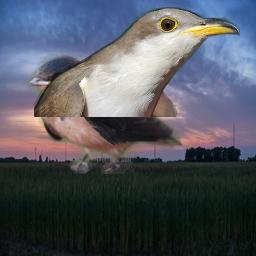Cuckoo: (34, 7, 240, 117)
Swallow: (26, 54, 183, 174)
